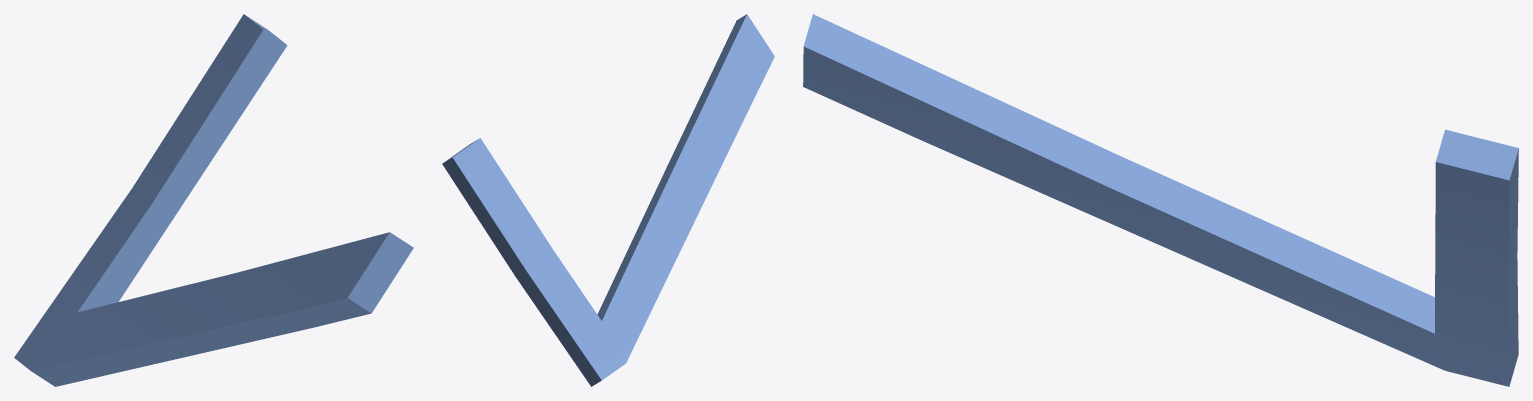
File: Number_7.gltf
3 renders of one model, left to right at view 1: azimuth 30°, elevation 25°; view 2: azimuth 150°, elevation 25°; view 3: azimuth 270°, elevation 25°, orthographic. The views are drawn at different scales.
Parts seen in each view (by area): view 1: Sub_7_Cell_3_3_Number_7; view 2: Sub_7_Cell_3_3_Number_7; view 3: Sub_7_Cell_3_3_Number_7.
Boxes of the visible parts, x1,y1,x2,y2 form: Sub_7_Cell_3_3_Number_7: (14,14,413,386); Sub_7_Cell_3_3_Number_7: (442,14,774,386); Sub_7_Cell_3_3_Number_7: (803,14,1518,386).
Size of the model in its own units: 0.0122 by 0.0154 by 0.0246.
